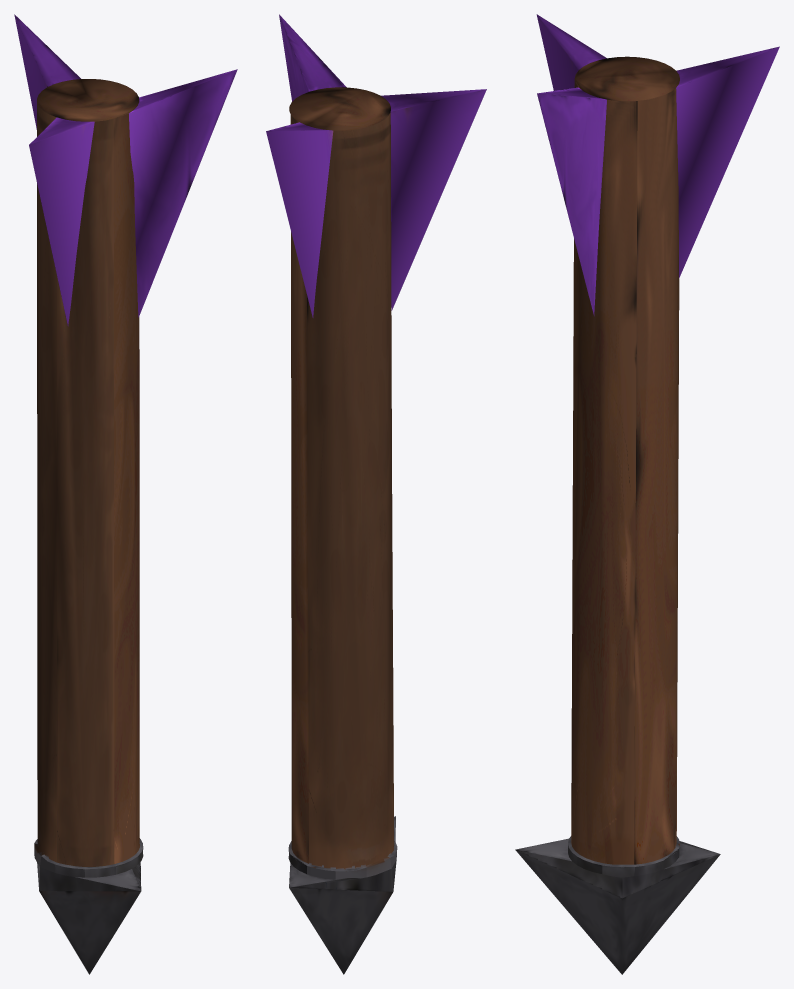
The model's file is arrow.fbx.
3 renders of one model, left to right at view 1: azimuth 30°, elevation 25°; view 2: azimuth 150°, elevation 25°; view 3: azimuth 270°, elevation 25°, orthographic. The views are drawn at different scales.
Parts seen in each view (by area): view 1: Cylinder; view 2: Cylinder; view 3: Cylinder.
Boxes of the visible parts, x1,y1,x2,y2 form: Cylinder: (14, 14, 237, 974); Cylinder: (266, 14, 486, 974); Cylinder: (515, 14, 779, 974).
Size of the model in its own units: 16.89 by 70.27 by 18.05.
